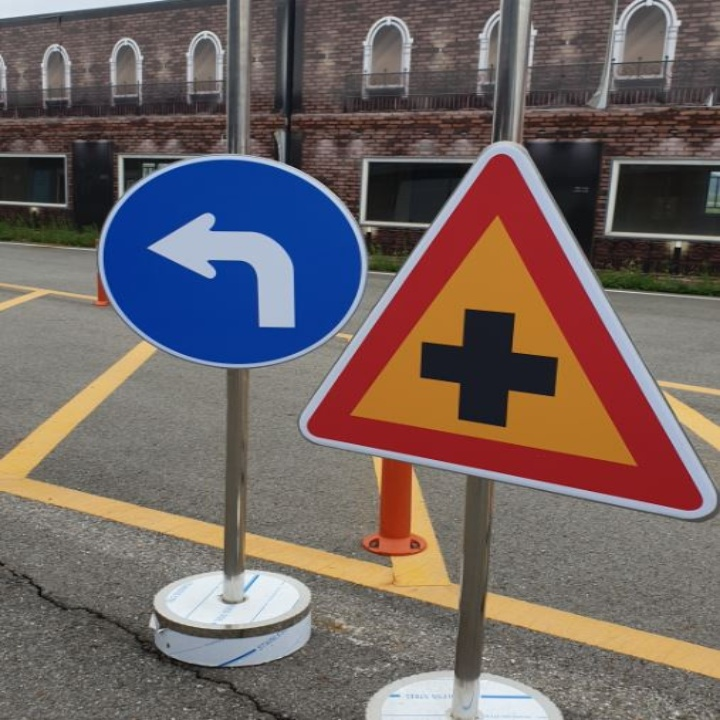inter: (413, 298, 567, 444)
left: (138, 200, 309, 345)
